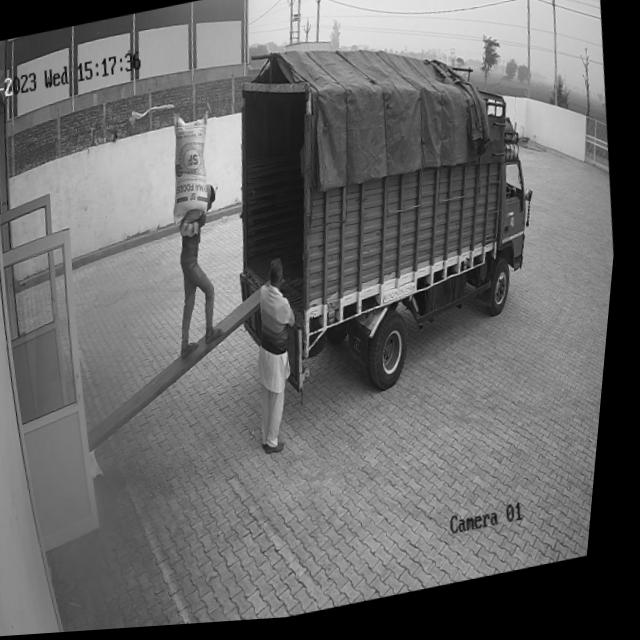sack: (164, 113, 225, 224)
